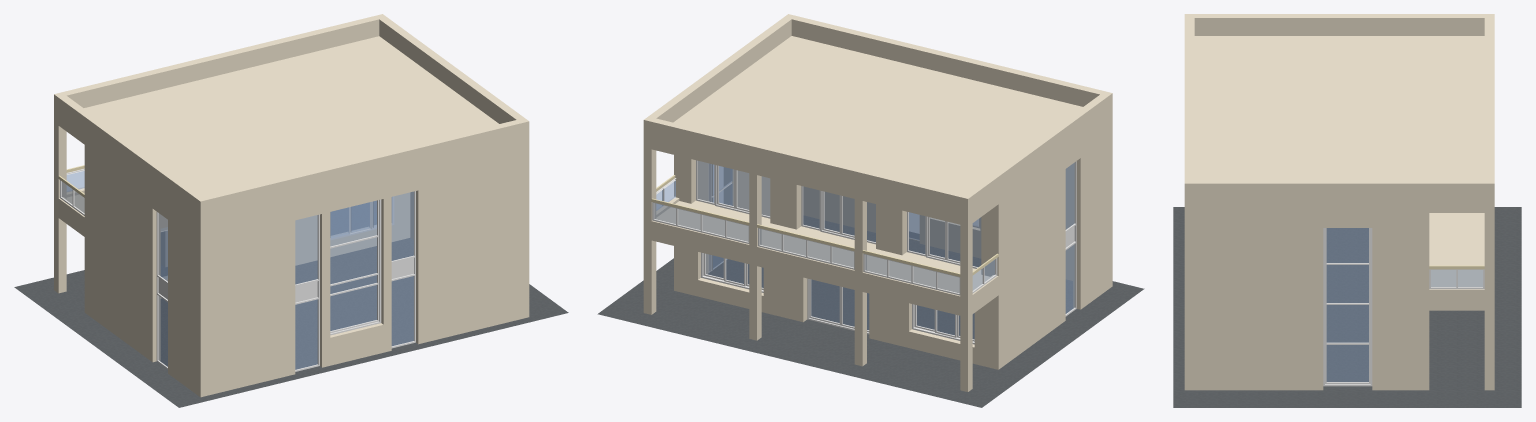
The picture shows the model from 3 angles, left to right: view 1: azimuth 30°, elevation 25°; view 2: azimuth 150°, elevation 25°; view 3: azimuth 270°, elevation 25°; orthographic projection. The views are drawn at different scales.
Parts seen in each view (by area): view 1: 4861, 4871, Root Node, Component#2 (×3), Component#4, C1, W4, 5083; view 2: 4871, 4861, Root Node, 5083, C1 (×4), W5 (×3), g (×3), W4 (×2), Door, Component#2, Component#3; view 3: 4871, 4861, Root Node, Component#3, 5083, C1, Component#1.
Boxes of the visible parts, <box> form: 4861: <box>84,145,529,397</box>; 4871: <box>54,14,529,229</box>; Root Node: <box>14,202,568,407</box>; Component#2 (×3): <box>156,191,415,371</box>; Component#4: <box>330,199,381,335</box>; C1: <box>54,111,66,293</box>; W4: <box>330,196,394,239</box>; 5083: <box>58,189,84,236</box>; 4871: <box>643,14,1112,224</box>; 4861: <box>674,121,1112,369</box>; Root Node: <box>597,215,1144,407</box>; 5083: <box>651,197,998,315</box>; C1 (×4): <box>643,136,972,391</box>; W5 (×3): <box>696,160,981,268</box>; g (×3): <box>652,202,960,295</box>; W4 (×2): <box>701,252,974,344</box>; Door: <box>807,278,869,334</box>; Component#2: <box>1065,161,1076,316</box>; Component#3: <box>708,163,732,272</box>; 4871: <box>1184,14,1494,212</box>; 4861: <box>1184,213,1429,390</box>; Root Node: <box>1173,207,1521,407</box>; Component#3: <box>1323,228,1372,386</box>; 5083: <box>1429,213,1484,310</box>; C1: <box>1484,201,1494,390</box>; Component#1: <box>1429,269,1484,289</box>.
Bounding box in the file's own units: 14.58 × 7 × 10.69.
430 materials, 1 textured.
